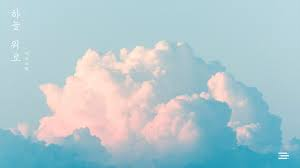sky: (30, 3, 299, 168)
